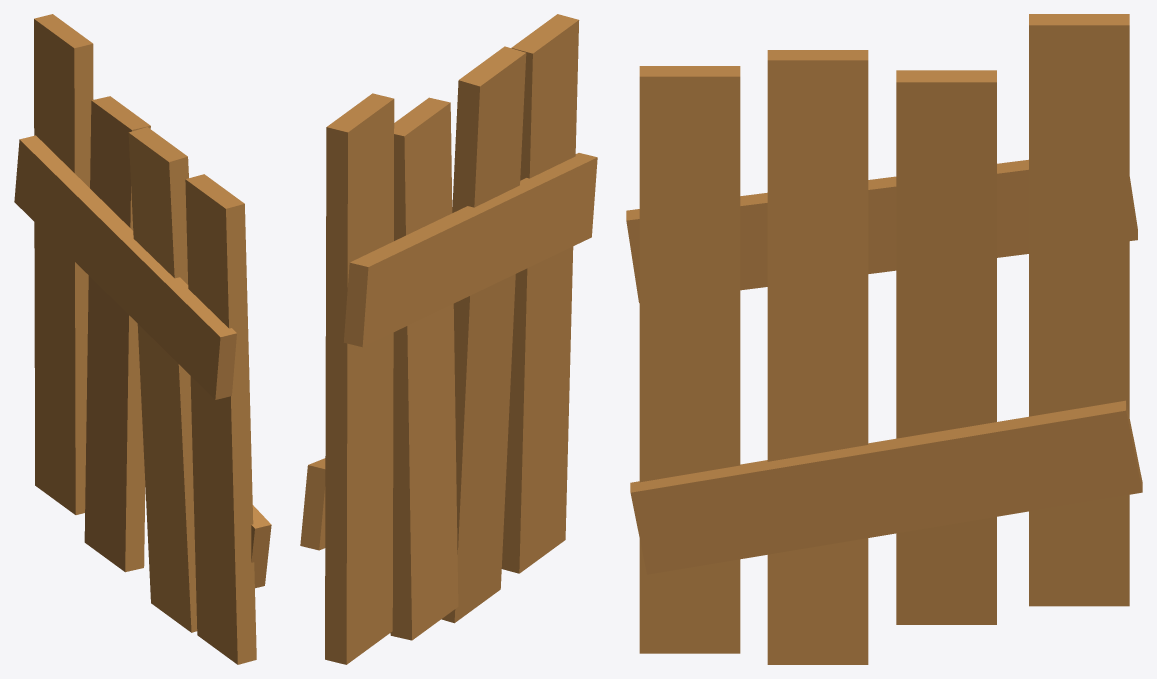
File: забор.fbx
3 views of the same model, side by side, from view 1: azimuth 30°, elevation 25°; view 2: azimuth 150°, elevation 25°; view 3: azimuth 270°, elevation 25° (orthographic). The views are drawn at different scales.
Parts seen in each view (by area): view 1: Cube.003; view 2: Cube.003; view 3: Cube.003.
Boxes of the visible parts, x1=… form: Cube.003: x1=14, y1=14, x2=271, y2=664; Cube.003: x1=300, y1=14, x2=597, y2=664; Cube.003: x1=626, y1=14, x2=1142, y2=664.
Bounding box in the file's own units: 13.7 × 127 × 93.5.
